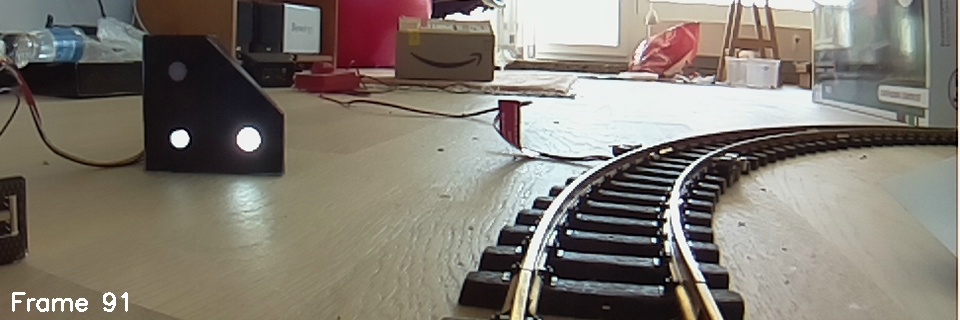Halt: (142, 37, 286, 174)
